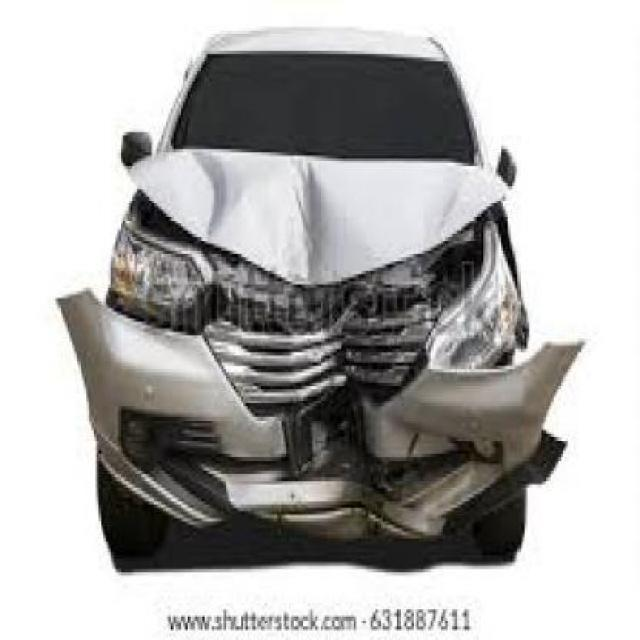damaged-front-bumper: (49, 290, 578, 546)
